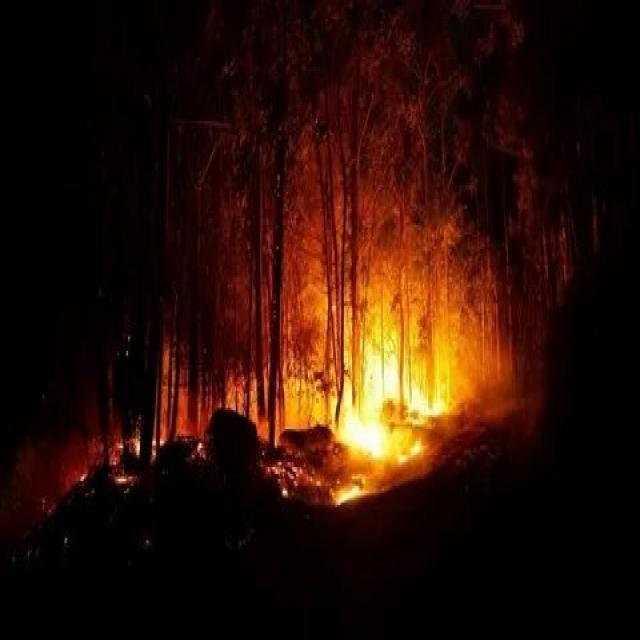Fire: (277, 316, 438, 518)
